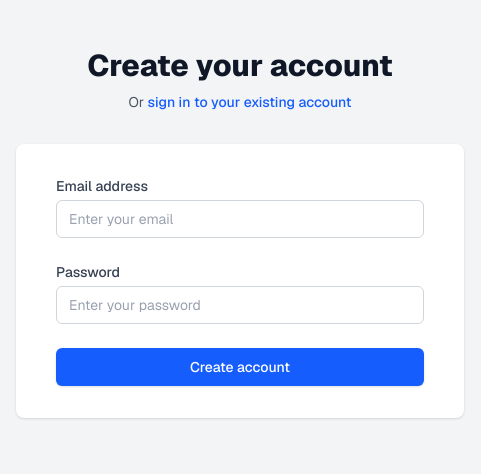
Test: Register Page › should show error for invalid email
Type "test@example.com" into the field labelled "Email address" at coordinates (240, 219), box [56, 200, 424, 238]
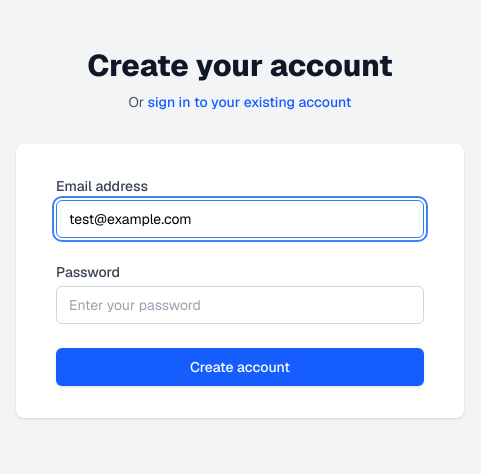
Type "password123" into the password field labelled "Password" at coordinates (240, 305), box [56, 286, 424, 324]
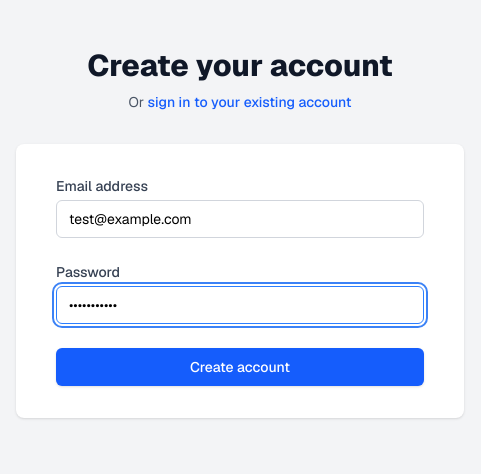
Click the button "Create account" at coordinates (240, 367), box [56, 348, 424, 386]
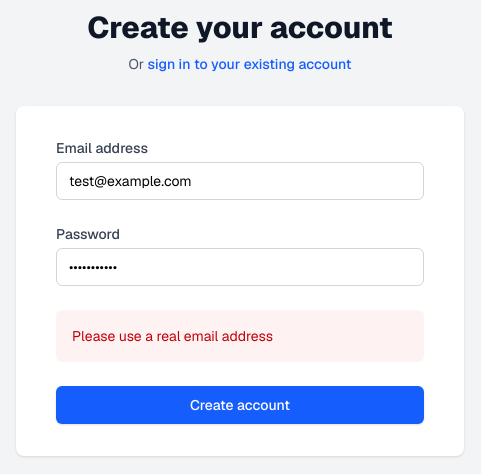
Now the text "Please use a real email address" is shown, box [72, 327, 273, 345]
